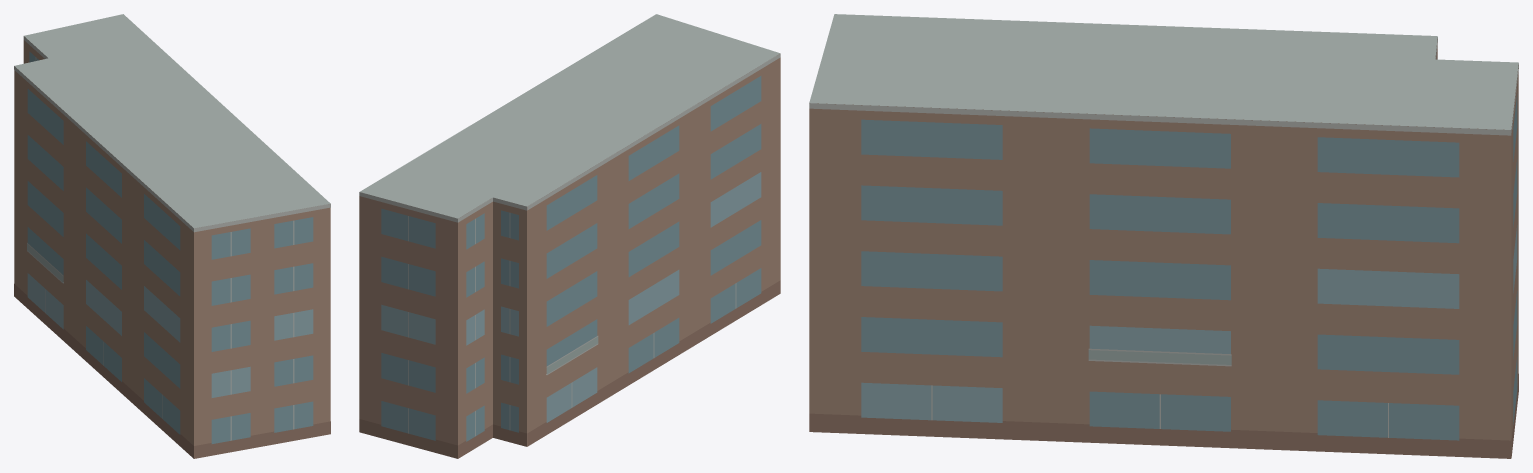
Rendered from survey-upis-32643733.glb.
3 renders of one model, left to right at view 1: azimuth 30°, elevation 25°; view 2: azimuth 150°, elevation 25°; view 3: azimuth 270°, elevation 25°, orthographic. The views are drawn at different scales.
Parts seen in each view (by area): view 1: survey-upis-32643733.tmp; view 2: survey-upis-32643733.tmp; view 3: survey-upis-32643733.tmp.
Part boxes in pixels (<box>): survey-upis-32643733.tmp: <box>14,14,330,458</box>; survey-upis-32643733.tmp: <box>359,14,780,458</box>; survey-upis-32643733.tmp: <box>809,14,1518,458</box>.
Size of the model in its own units: 10.91 by 14.4 by 28.17.
